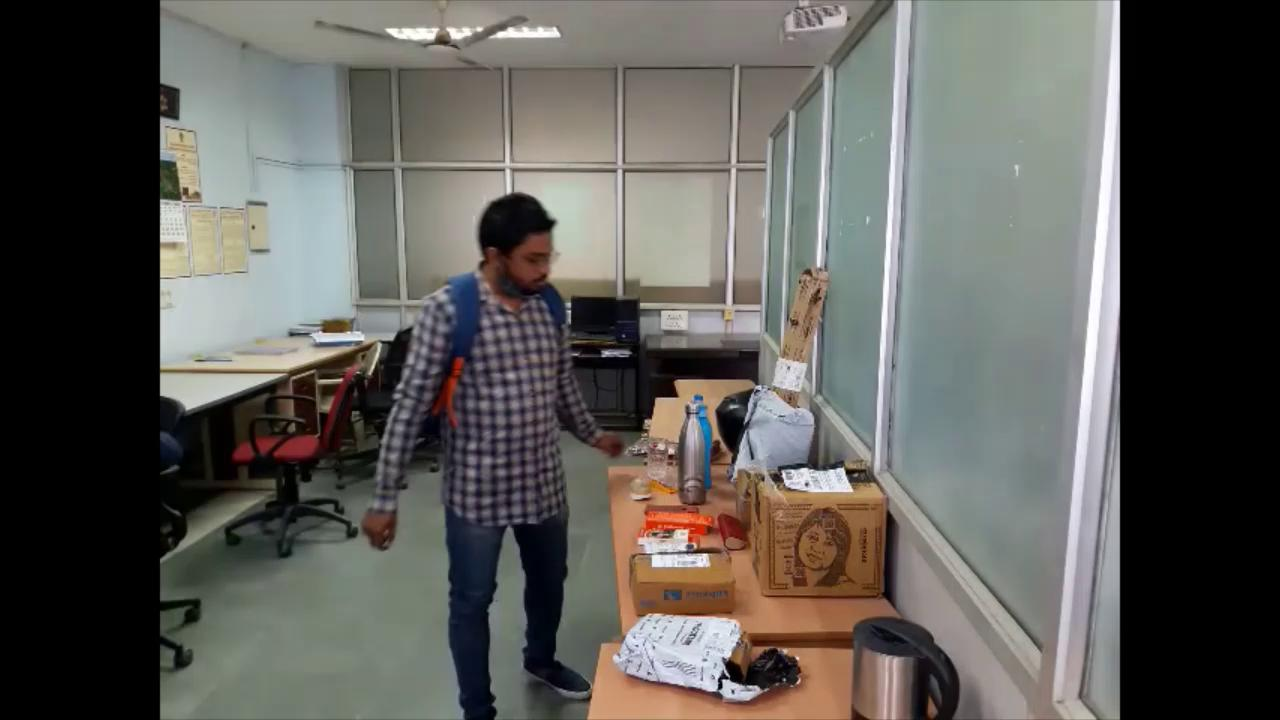Normal: (355, 186, 626, 709)
